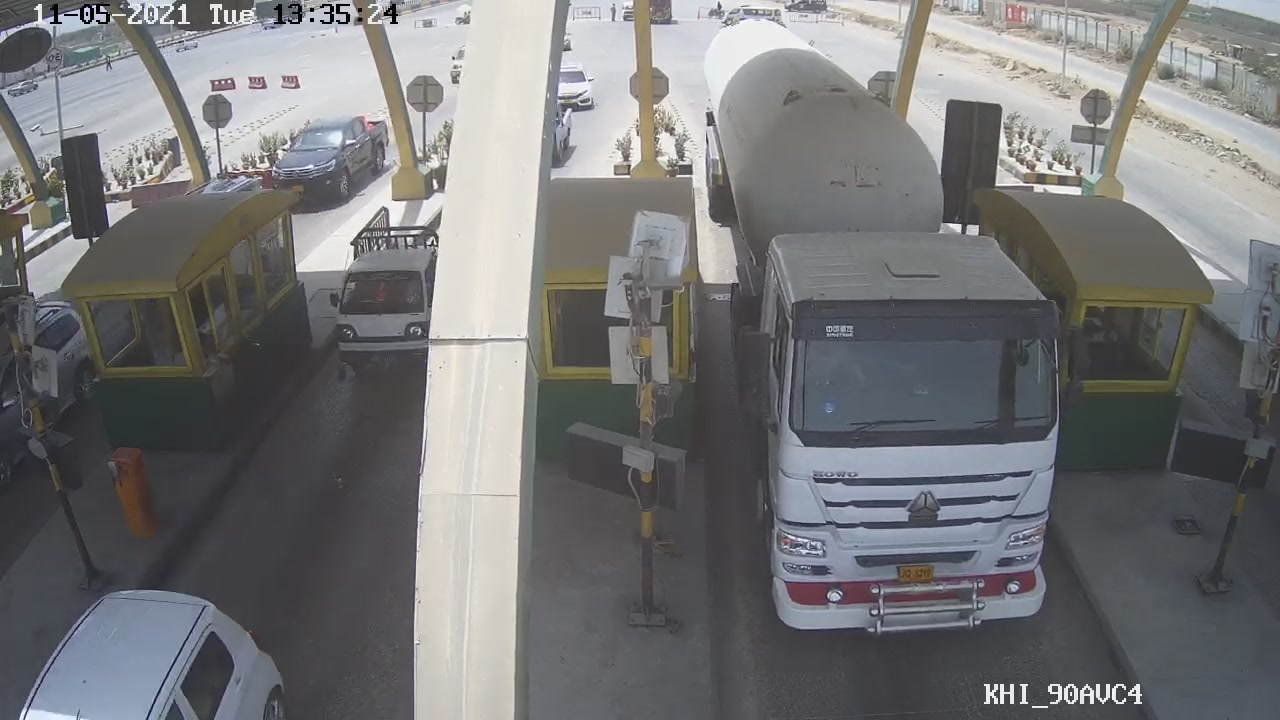F6: (693, 19, 1084, 650)
